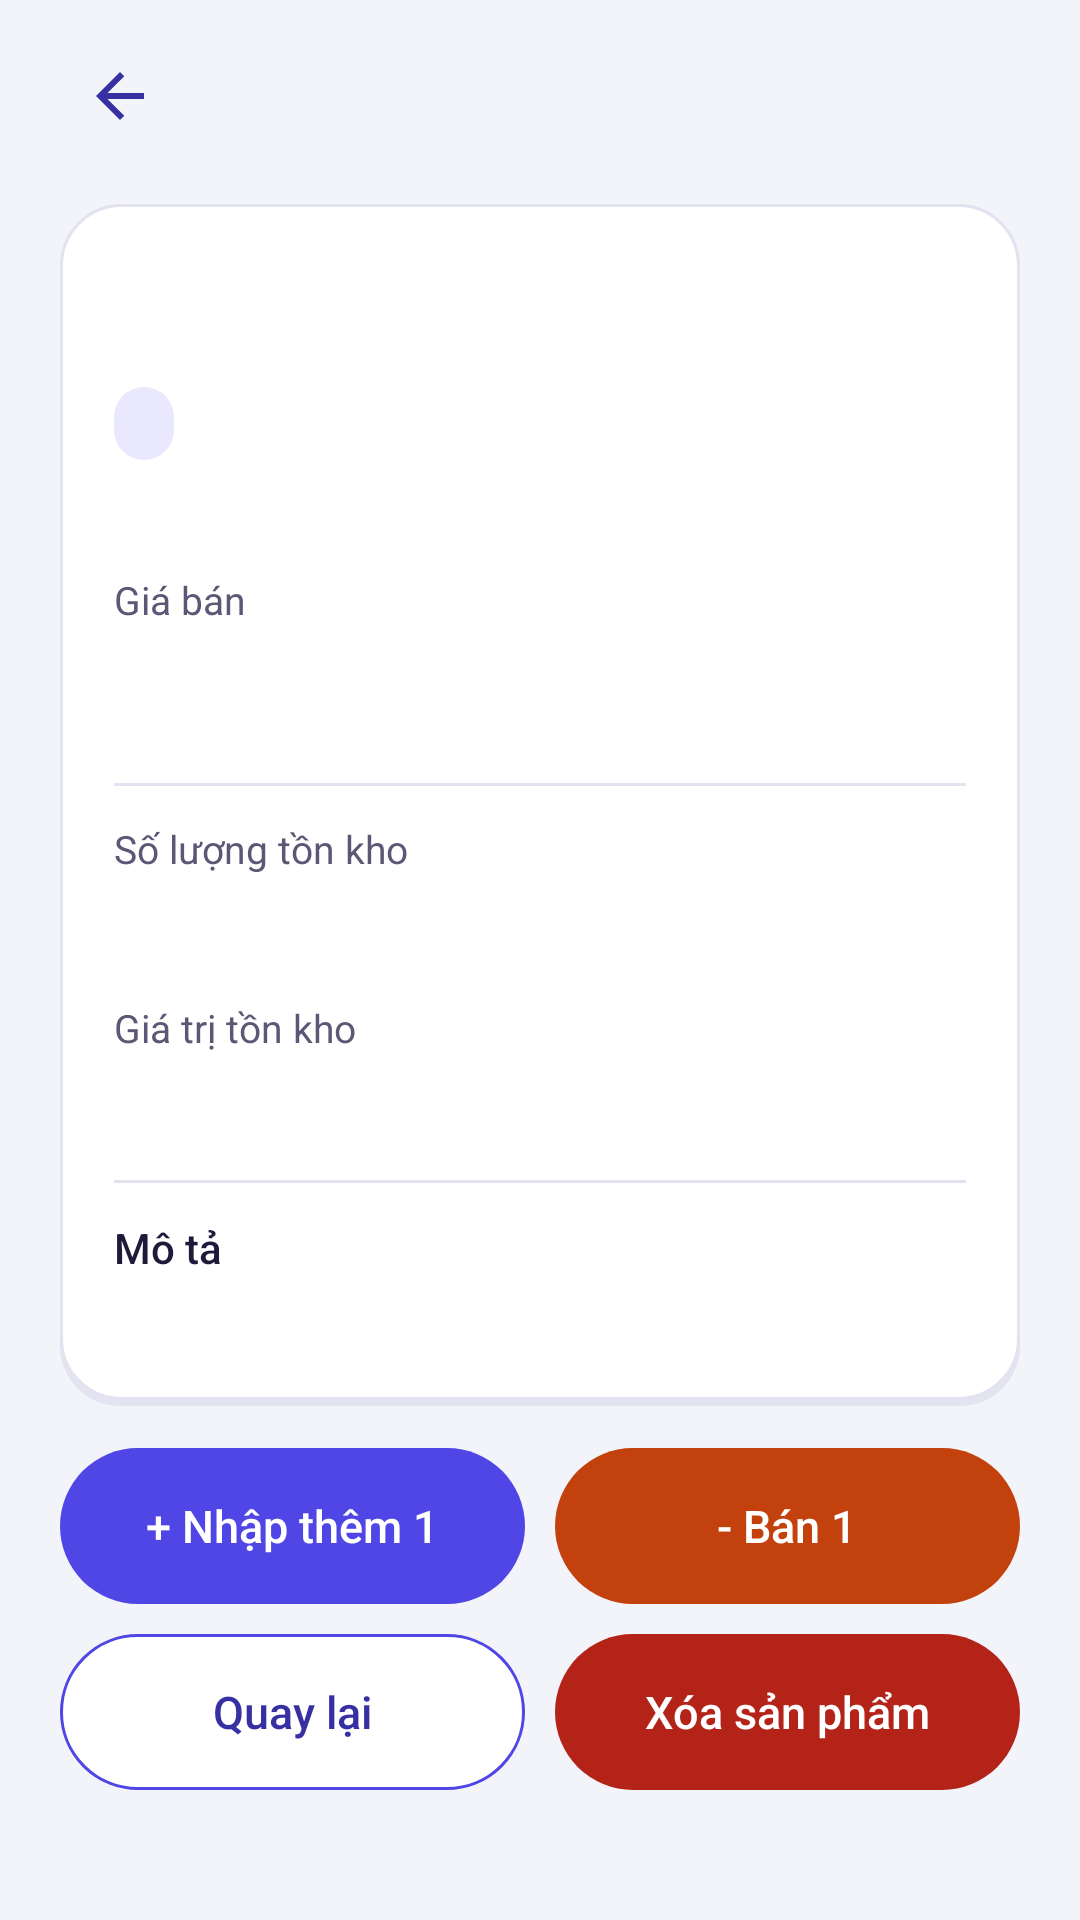

Named icons in this screenshot (1080w x 1920h) and their centers, point (x, y):
Quay lại: point (120, 96)
